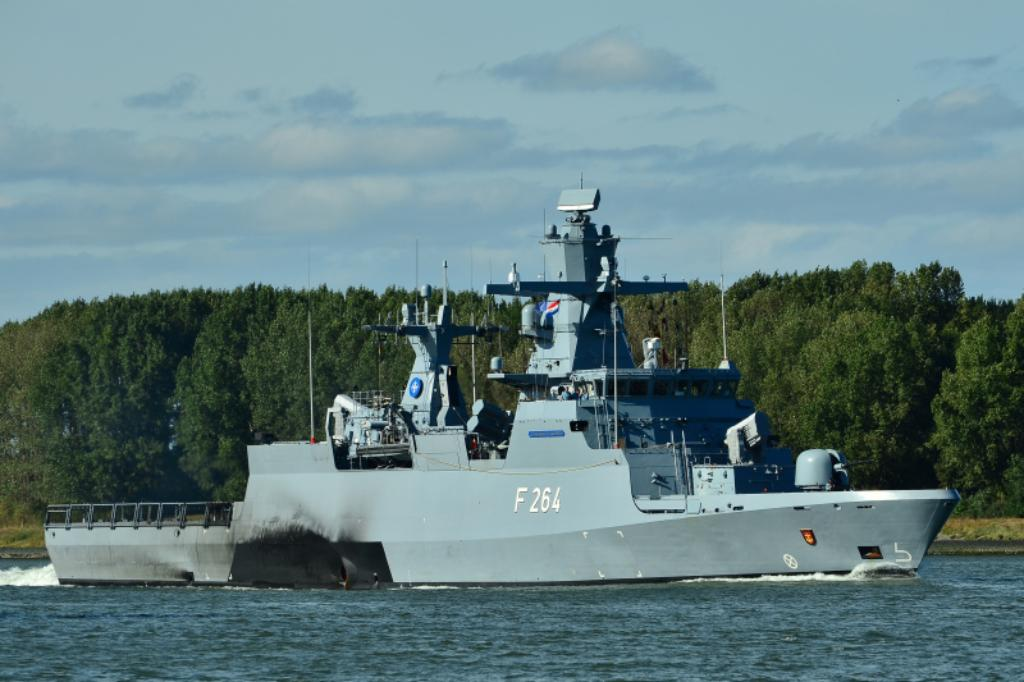Warship: (44, 167, 960, 589)
